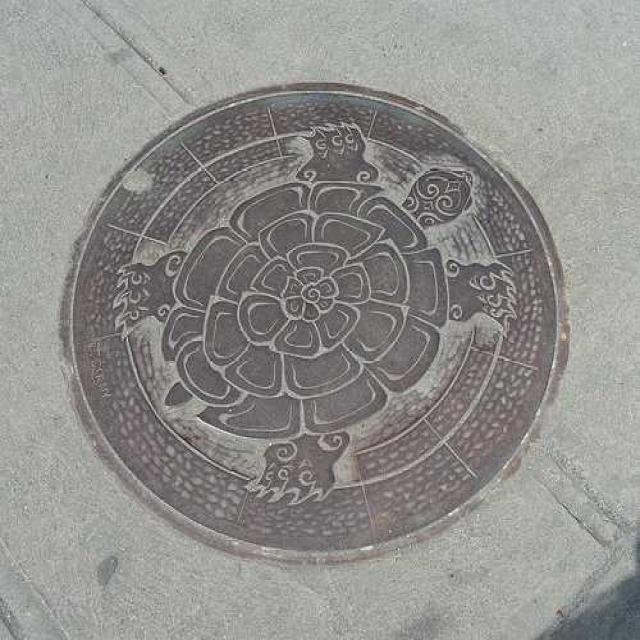manhole: (61, 86, 567, 562)
